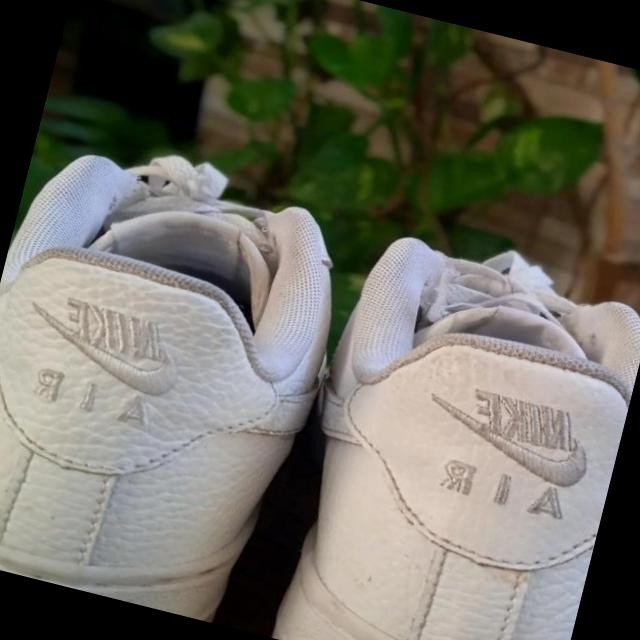nike_fake_airforce: (0, 141, 360, 634), (259, 223, 640, 640)
